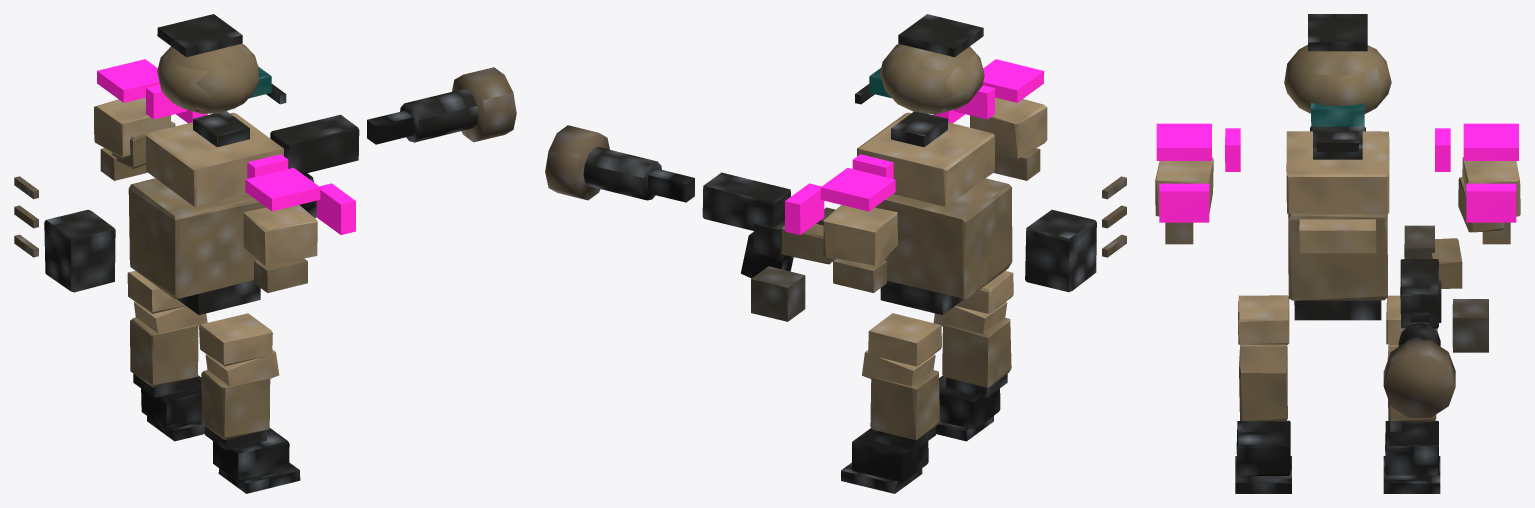
File: infantry.glb
3 views of the same model, side by side, from view 1: azimuth 30°, elevation 25°; view 2: azimuth 150°, elevation 25°; view 3: azimuth 270°, elevation 25° (orthographic). The views are drawn at different scales.
Visible parts, largest first — view 1: Sandwar3D; view 2: Sandwar3D; view 3: Sandwar3D.
Boxes of the visible parts, box(x1,y1,x2,y2) form: Sandwar3D: box(14, 14, 516, 493); Sandwar3D: box(545, 14, 1126, 493); Sandwar3D: box(1155, 14, 1520, 493).
Bounding box in the file's own units: 1.2 × 0.9494 × 0.7145.
Materials: 9 (8 with a texture image).
